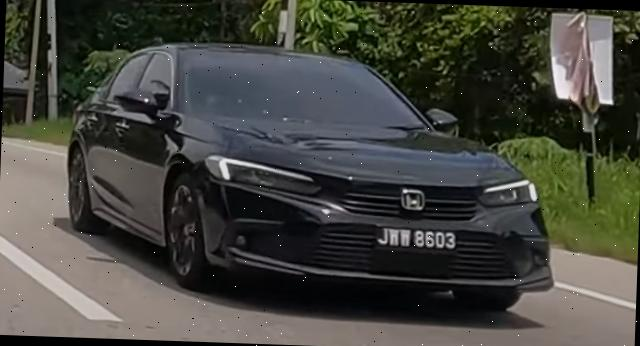License_Plate: (373, 229, 458, 253)
car: (61, 36, 563, 313)
